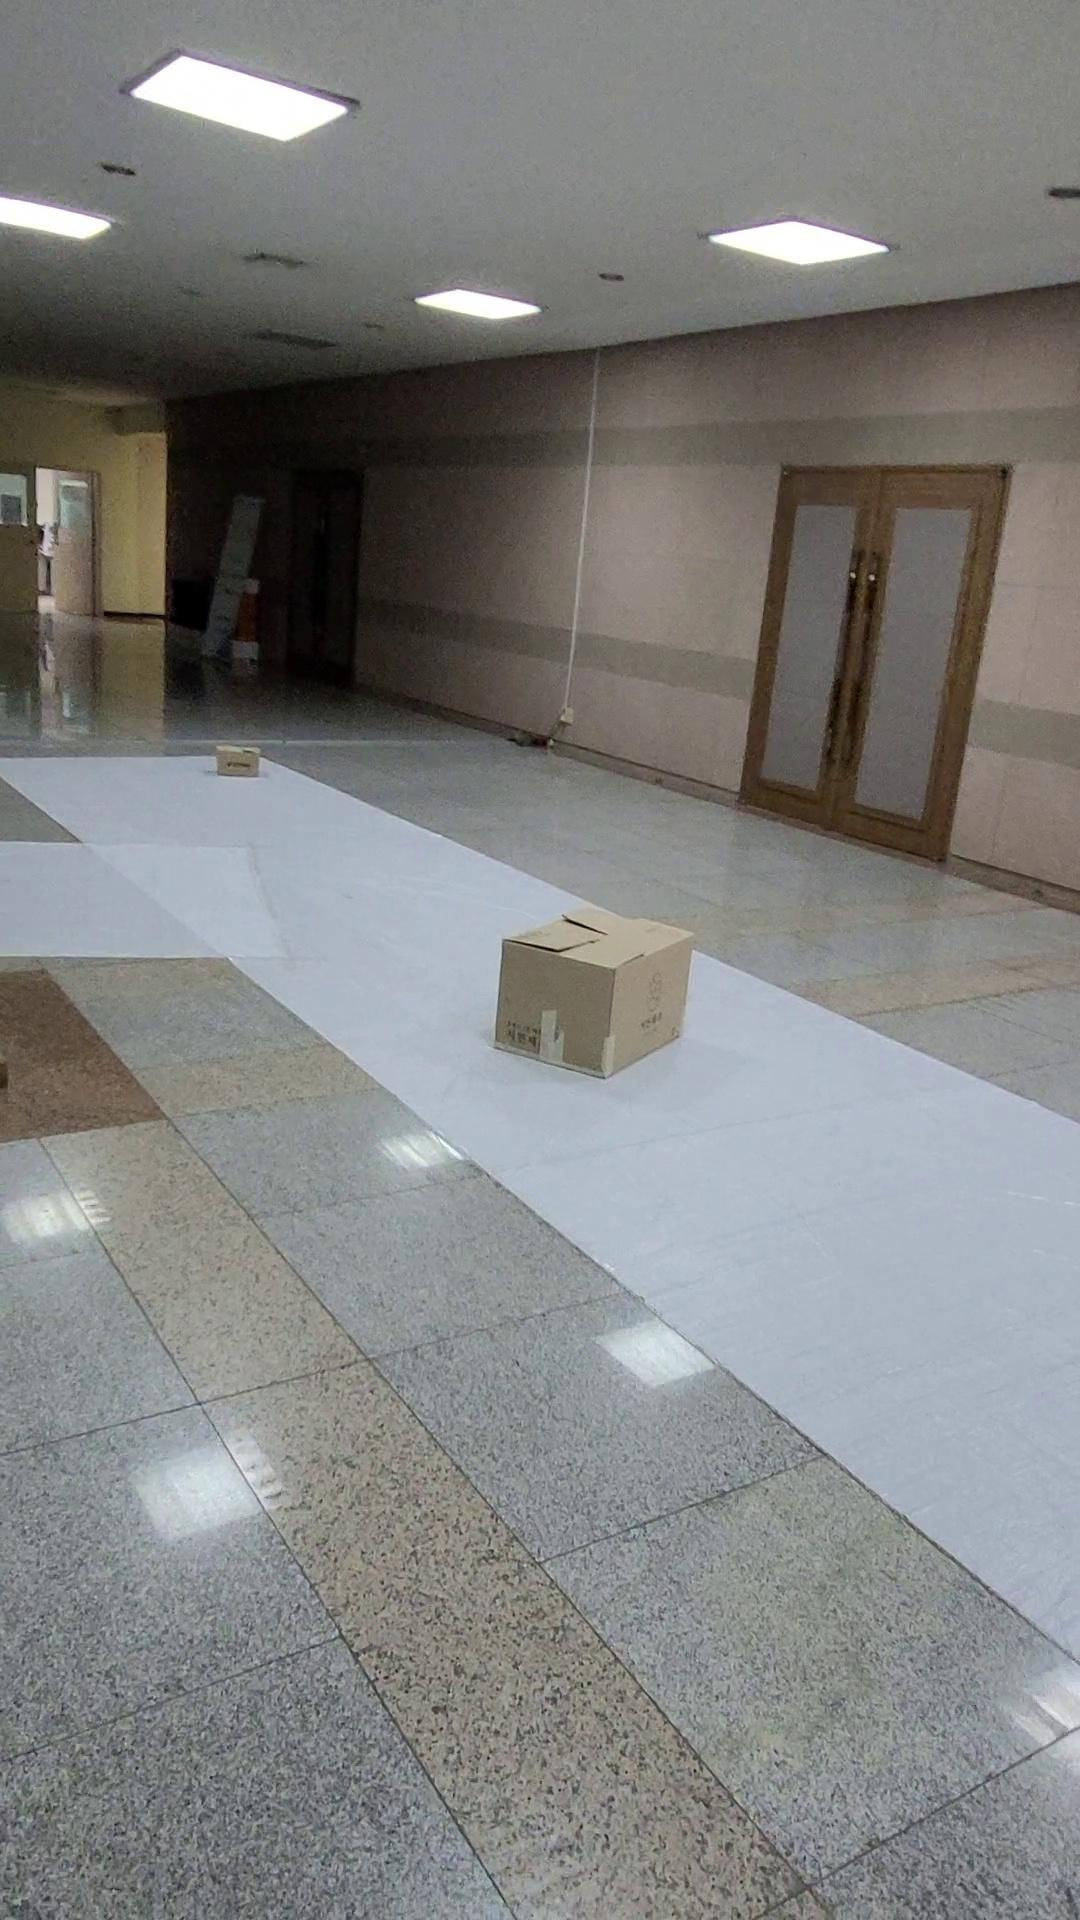Box: (483, 905, 709, 1092), (214, 740, 272, 777)
